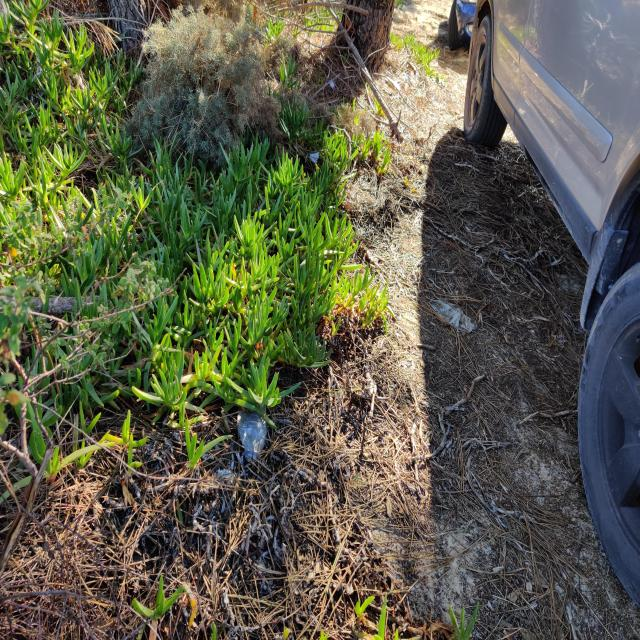litter: (234, 393, 270, 464)
